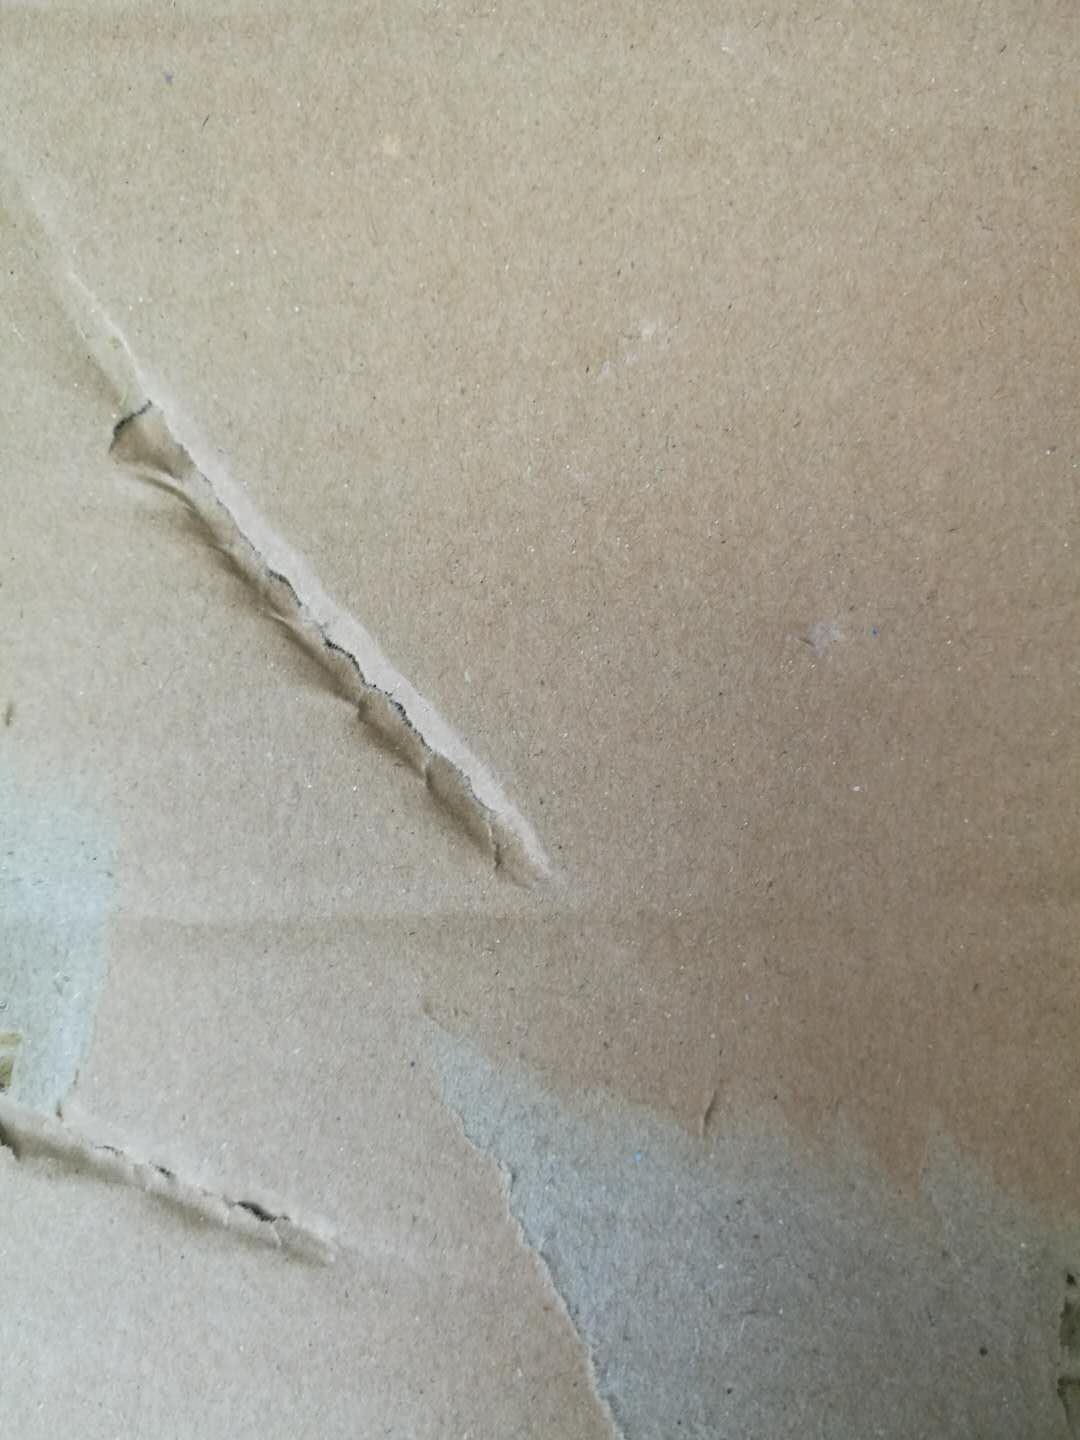defect: (3, 119, 605, 903), (382, 964, 1080, 1437), (3, 708, 466, 1313)
